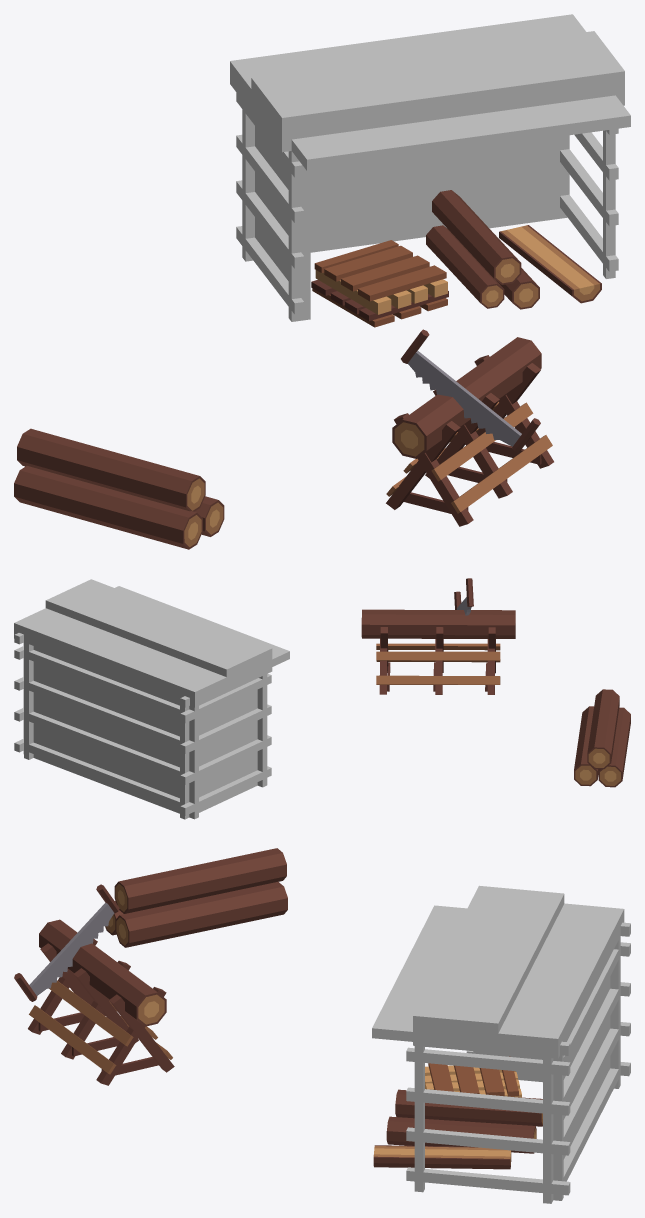
File: sawmill_all.fbx
3 views of the same model, one above another, from view 1: azimuth 30°, elevation 25°; view 2: azimuth 150°, elevation 25°; view 3: azimuth 270°, elevation 25° (orthographic). The views are drawn at different scales.
Parts seen in each view (by area): view 1: cart_maker_03_Building_02_empty_Unity, Deck.001, goats_for_sawing, planks, Deck.004, Deck, saw.001, Deck_half.001; view 2: cart_maker_03_Building_02_empty_Unity, goats_for_sawing, Deck.001, Deck, saw.001; view 3: cart_maker_03_Building_02_empty_Unity, Deck.001, goats_for_sawing, Deck.004, Deck, Deck_half.001, planks, saw.001.
Part boxes in pixels (<box>): cart_maker_03_Building_02_empty_Unity: <box>230,14,630,321</box>; Deck.001: <box>14,428,224,549</box>; goats_for_sawing: <box>386,355,553,526</box>; planks: <box>311,240,448,327</box>; Deck.004: <box>426,190,539,309</box>; Deck: <box>392,337,541,458</box>; saw.001: <box>401,329,540,452</box>; Deck_half.001: <box>499,225,601,303</box>; cart_maker_03_Building_02_empty_Unity: <box>14,579,289,819</box>; goats_for_sawing: <box>376,627,500,694</box>; Deck.001: <box>574,689,630,787</box>; Deck: <box>361,609,515,638</box>; saw.001: <box>454,578,473,615</box>; cart_maker_03_Building_02_empty_Unity: <box>372,885,630,1203</box>; Deck.001: <box>105,848,287,947</box>; goats_for_sawing: <box>28,939,174,1085</box>; Deck.004: <box>386,1089,542,1153</box>; Deck: <box>39,919,166,1026</box>; Deck_half.001: <box>373,1145,511,1169</box>; planks: <box>425,1056,521,1097</box>; saw.001: <box>14,884,119,1001</box>.
Size of the model in its own units: 716 by 193 by 601.
